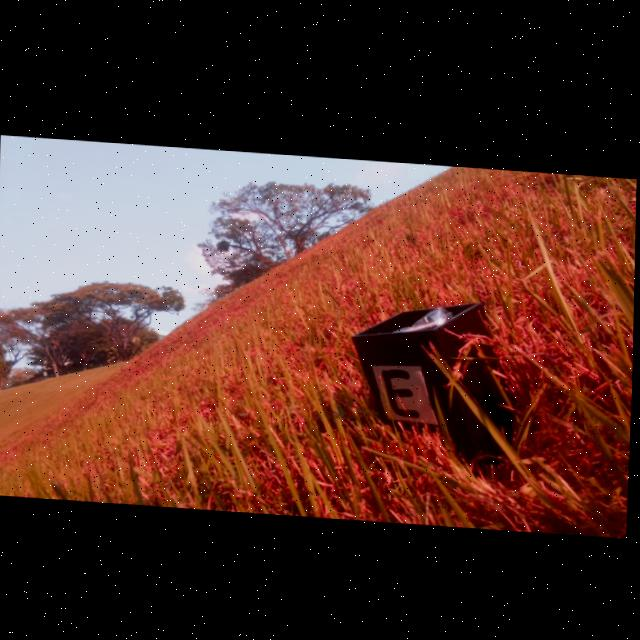E: (383, 365, 423, 412)
